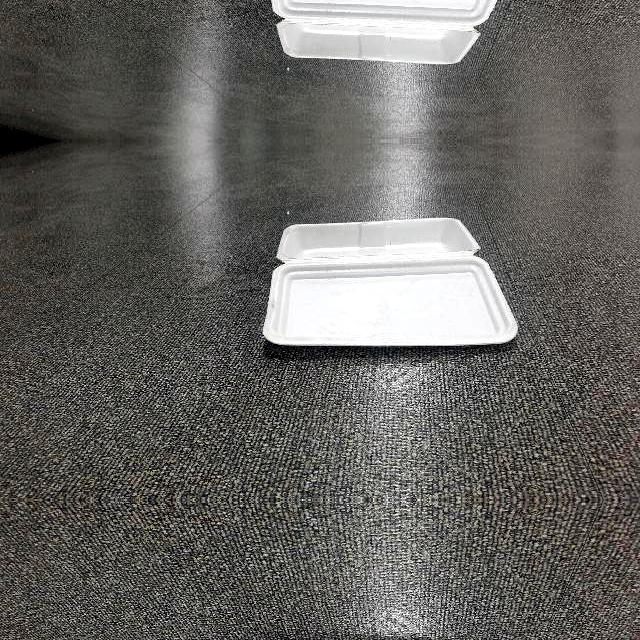Styrofoam: (263, 215, 519, 349), (263, 217, 518, 345), (263, 0, 519, 65), (272, 0, 498, 63)
